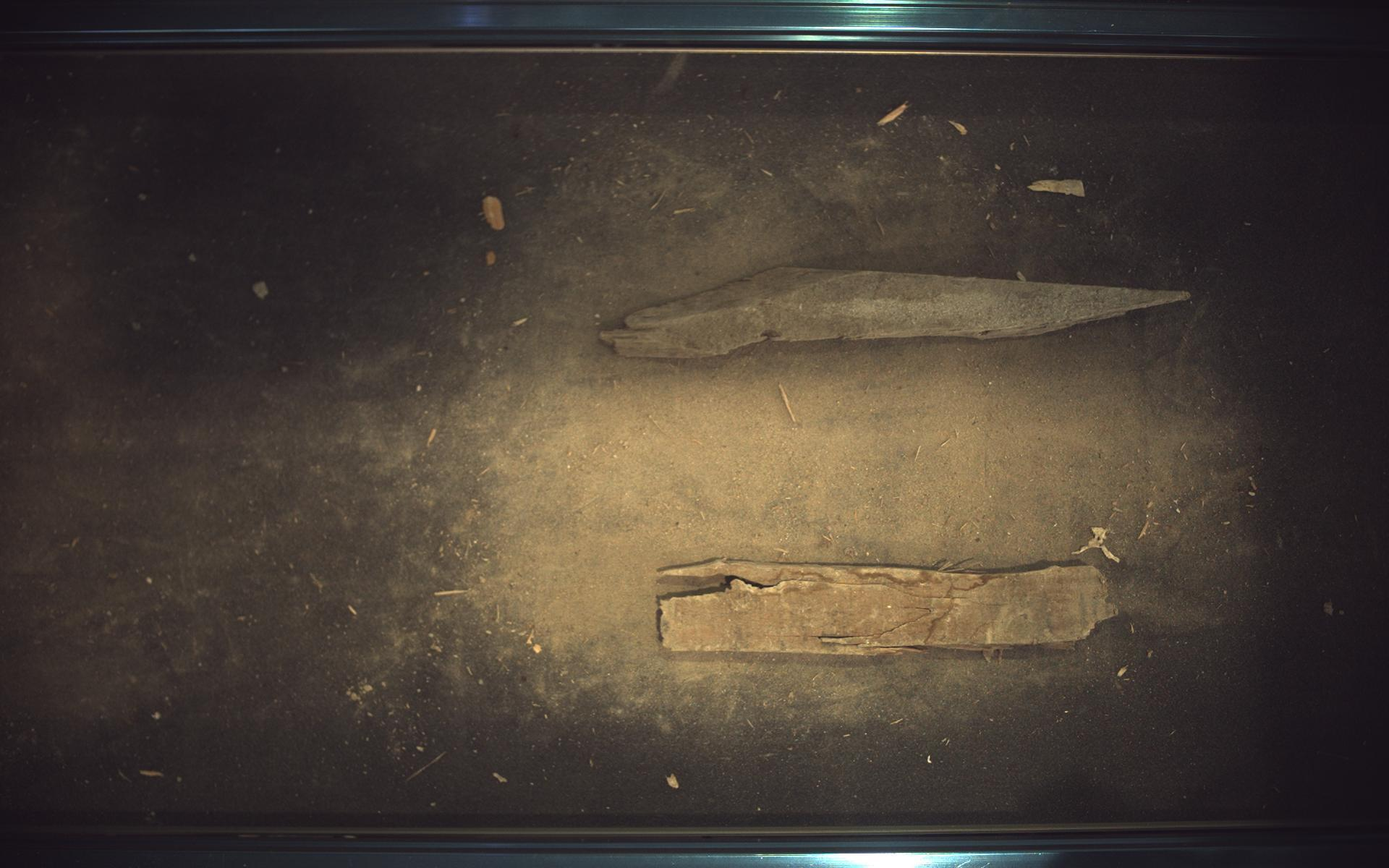wood: (600, 267, 1192, 358), (659, 560, 1119, 656)
